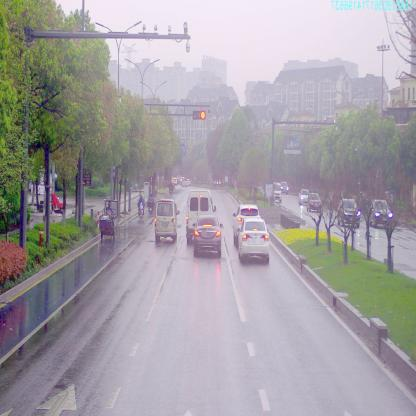traffic-light: (192, 110, 206, 121)
